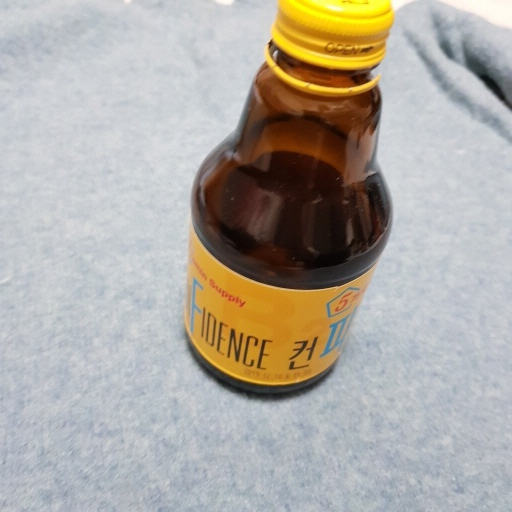Glass_3: (176, 1, 400, 402)
